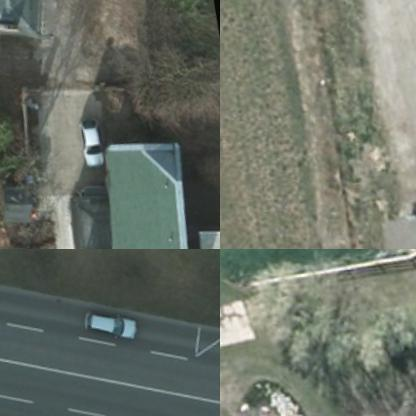car: (86, 300, 145, 345), (80, 108, 113, 166)
